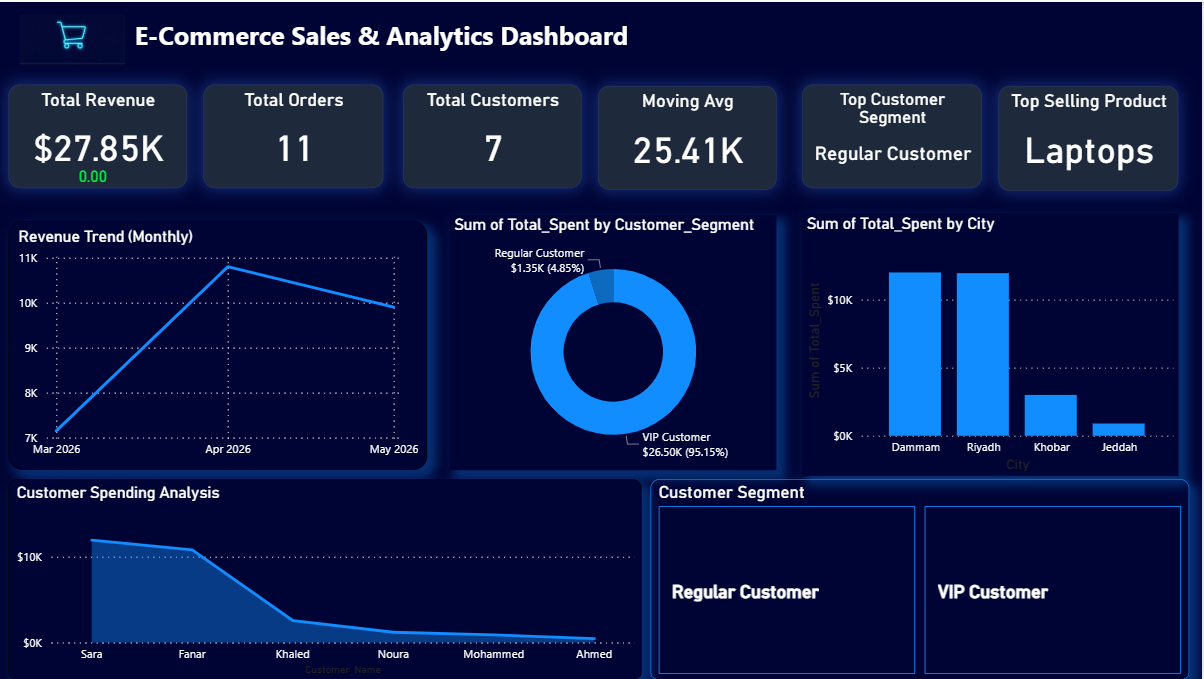

What the dashboard file says about the page in this screenshot:
{"tool":"powerbi","page":{"name":"Page 1","canvas":[1280,720],"ordinal":0},"visuals":[{"type":"card","title":"Total Revenue","fields":{"Values":["Sum(cleaned_sales_data.Total_Spent)"]},"box":[14.3,87.5,189.3,109.8],"z":0},{"type":"card","title":"Total Orders","fields":{"Values":["Sum(cleaned_sales_data.Total_Orders)"]},"box":[221.1,87.5,190.9,109.8],"z":1000},{"type":"card","title":"Total Customers","fields":{"Values":["CountNonNull(cleaned_sales_data.Customer_Name)"]},"box":[432.6,87.5,189.3,109.8],"z":2000},{"type":"card","title":"Moving Avg","fields":{"Values":["Sum(moving_avg.MovingAvg_3Months)"]},"box":[639.4,89.1,189.3,109.8],"z":3000},{"type":"card","title":"Top Customer Segment","fields":{"Values":["Min(cleaned_sales_data.Customer_Segment)"]},"box":[855.7,87.5,190.9,109.8],"z":4000},{"type":"card","title":"Top Selling Product","fields":{"Values":["Min(cleaned_sales_data.Top_Product)"]},"box":[1064.1,89.1,190.9,111.3],"z":5000},{"type":"textbox","box":[143.2,11.1,542.4,68.4],"z":6000},{"type":"image","box":[20.7,0,122.5,79.5],"z":7000},{"type":"card","fields":{"Values":["cleaned_sales_data.Actual_Growth"]},"box":[14.3,144.7,178.1,81.1],"z":8000},{"type":"lineChart","title":"Revenue Trend (Monthly)","fields":{"Category":["monthly_sales.SalesMonth"],"Y":["Sum(monthly_sales.Current_Month_Sales)"]},"box":[14.3,232.2,443.8,264],"z":9000},{"type":"donutChart","fields":{"Category":["cleaned_sales_data.Customer_Segment"],"Y":["Sum(cleaned_sales_data.Total_Spent)"]},"box":[482,225.9,346.8,270.4],"z":10000},{"type":"clusteredColumnChart","fields":{"Y":["Sum(cleaned_sales_data.Total_Spent)"],"Category":["cleaned_sales_data.City"]},"box":[855.7,224.3,399.2,278.4],"z":11000},{"type":"areaChart","title":"Customer Spending Analysis","fields":{"Category":["cleaned_sales_data.Customer_Name"],"Y":["Sum(cleaned_sales_data.Total_Spent)"]},"box":[14.3,505.8,671.2,214.7],"z":12000},{"type":"advancedSlicerVisual","title":"Customer Segment","fields":{"Values":["cleaned_sales_data.Customer_Segment"]},"box":[695.1,505.8,571,214.7],"z":13000}]}

Visuals, with their boxes in screenshot pixels (x1, y1, x2, y2), scaled from the page's 1280x720 canvas onto the 1204x679 screenshot:
"Total Revenue" card: box(13, 83, 192, 186)
"Total Orders" card: box(208, 83, 388, 186)
"Total Customers" card: box(407, 83, 585, 186)
"Moving Avg" card: box(601, 84, 779, 188)
"Top Customer Segment" card: box(805, 83, 984, 186)
"Top Selling Product" card: box(1001, 84, 1180, 189)
textbox: box(135, 10, 645, 75)
image: box(19, 0, 135, 75)
card - cleaned_sales_data.Actual_Growth: box(13, 136, 181, 213)
"Revenue Trend (Monthly)" lineChart: box(13, 219, 431, 468)
donutChart - cleaned_sales_data.Customer_Segment x Sum(cleaned_sales_data.Total_Spent): box(453, 213, 780, 468)
clusteredColumnChart - Sum(cleaned_sales_data.Total_Spent) x cleaned_sales_data.City: box(805, 212, 1180, 474)
"Customer Spending Analysis" areaChart: box(13, 477, 645, 678)
"Customer Segment" advancedSlicerVisual: box(654, 477, 1191, 678)
